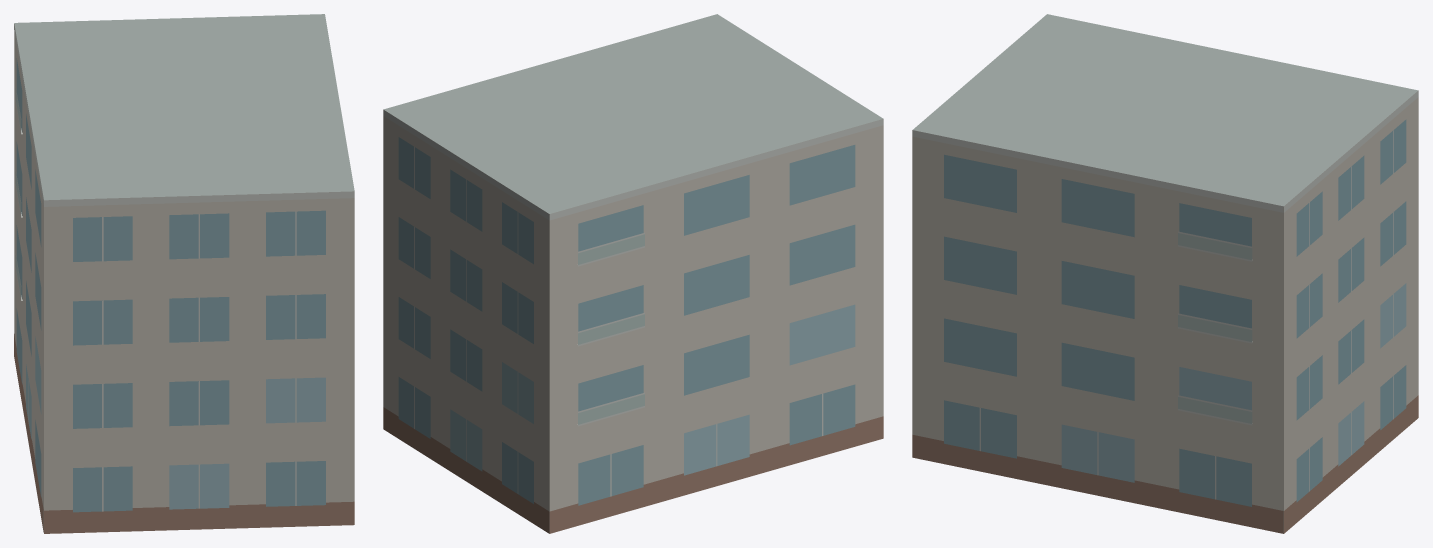
Rendered from survey-upis-32946011.glb.
3 renders of one model, left to right at view 1: azimuth 30°, elevation 25°; view 2: azimuth 150°, elevation 25°; view 3: azimuth 270°, elevation 25°, orthographic. The views are drawn at different scales.
Parts seen in each view (by area): view 1: survey-upis-32946011.tmp; view 2: survey-upis-32946011.tmp; view 3: survey-upis-32946011.tmp.
Part boxes in pixels (<box>): survey-upis-32946011.tmp: <box>14,14,354,533</box>; survey-upis-32946011.tmp: <box>383,14,883,533</box>; survey-upis-32946011.tmp: <box>912,14,1418,533</box>.
Size of the model in its own units: 15.38 by 12.2 by 17.1.
